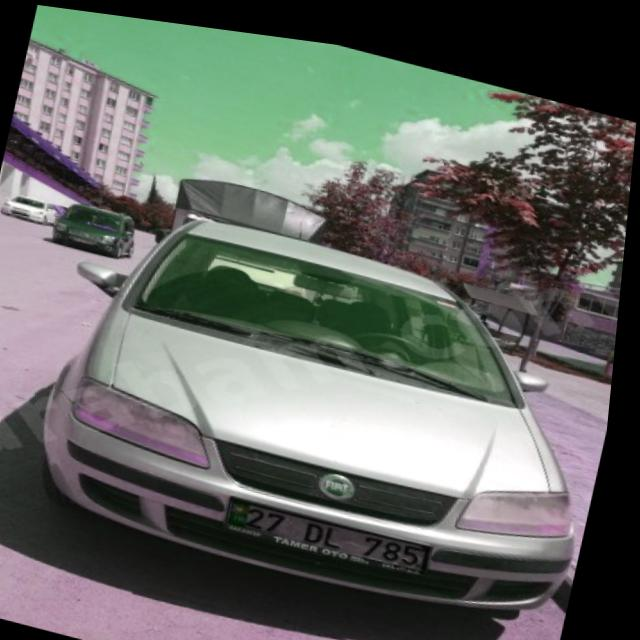license_plate: (233, 488, 442, 561)
